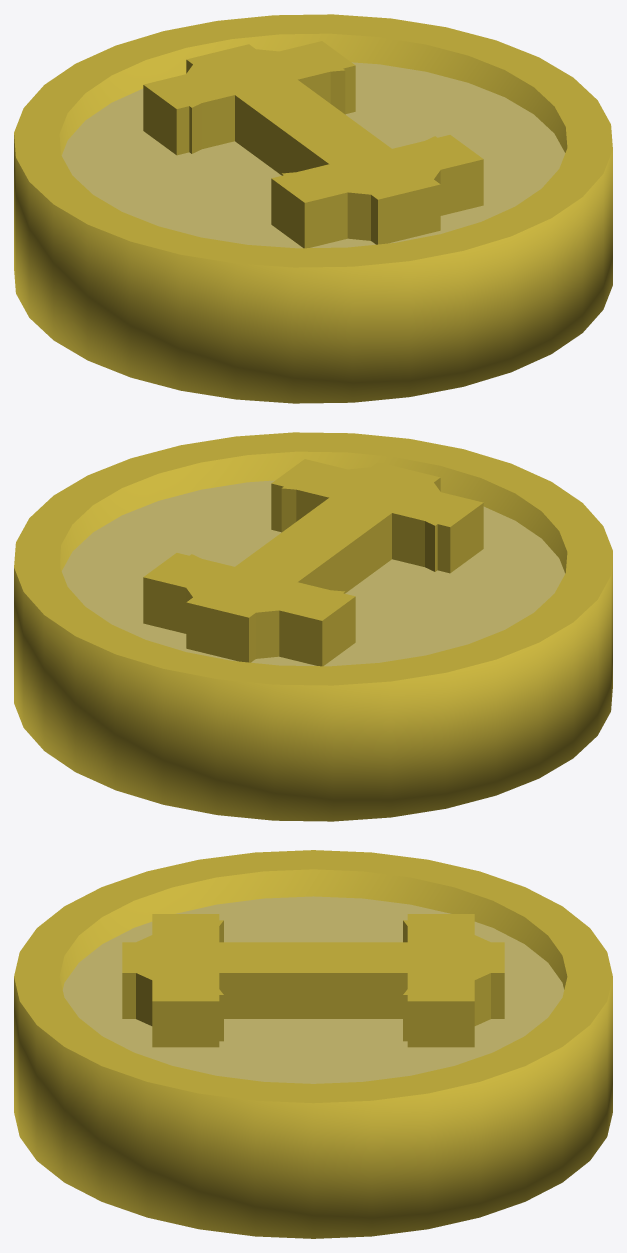
Rendered from Coin.fbx.
3 views of the same model, one above another, from view 1: azimuth 30°, elevation 25°; view 2: azimuth 150°, elevation 25°; view 3: azimuth 270°, elevation 25° (orthographic).
Visible parts, largest first — view 1: Coin; view 2: Coin; view 3: Coin.
Boxes of the visible parts, left/top/right/bottom form: Coin: left=14, top=14, right=612, bottom=403; Coin: left=14, top=432, right=612, bottom=821; Coin: left=14, top=850, right=612, bottom=1238.
Bounding box in the file's own units: 200 × 64 × 200.
